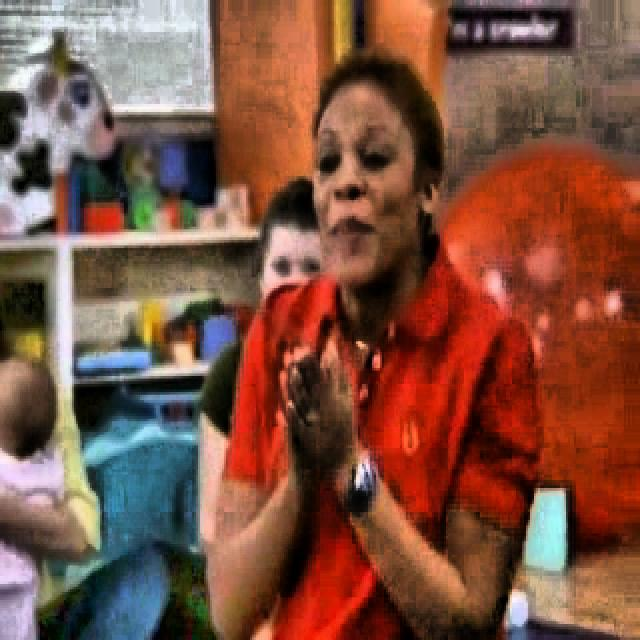F: (208, 55, 513, 640)
